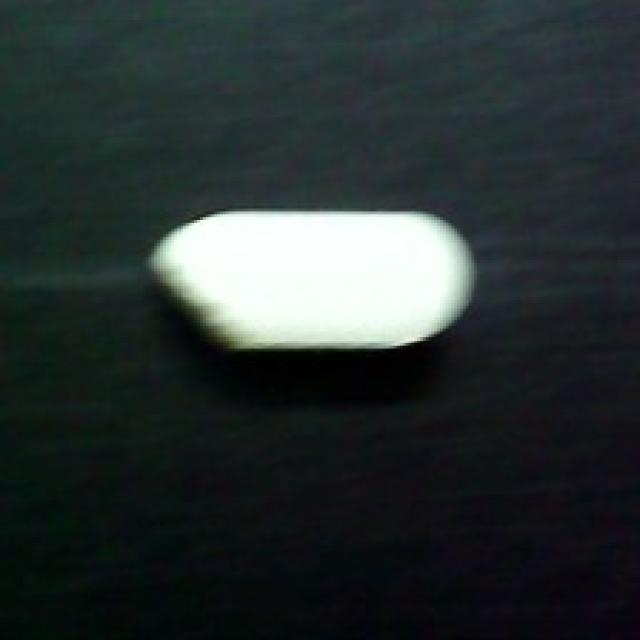defected: (146, 206, 480, 354)
